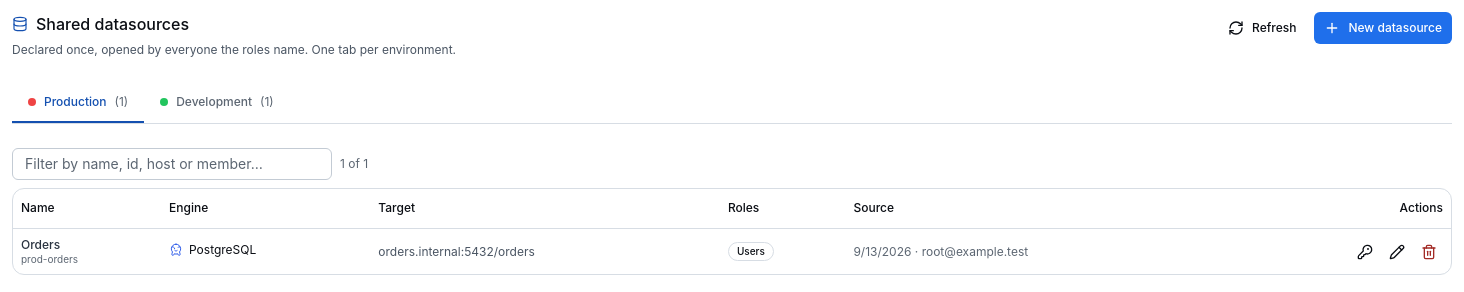
Test: DatasourcesTab › a tab whose environment empties on reload falls back to the first environment
Press the mouse on the tab with test id "env-tab-development" at (217, 103), box [144,84,290,122]
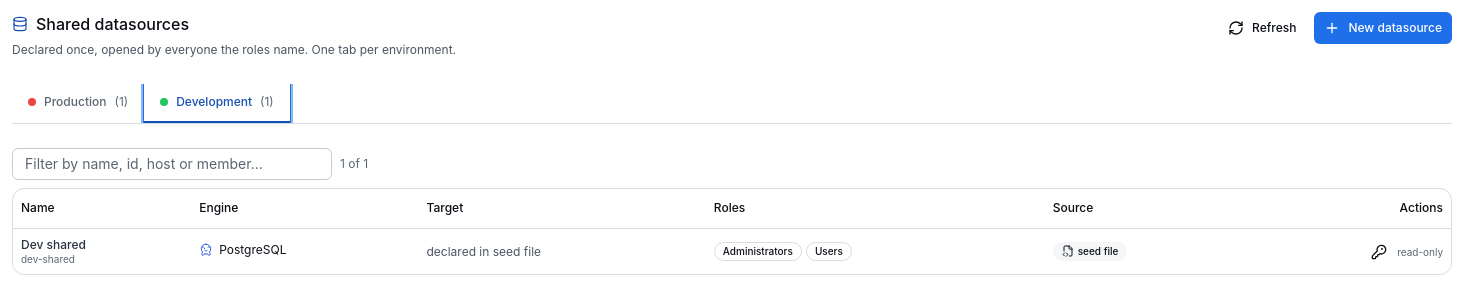
Now the element with test id "env-group-development" is shown, box [12,148,1452,275]
Click the button "Refresh" at (1262, 28), box [1218,12,1306,44]
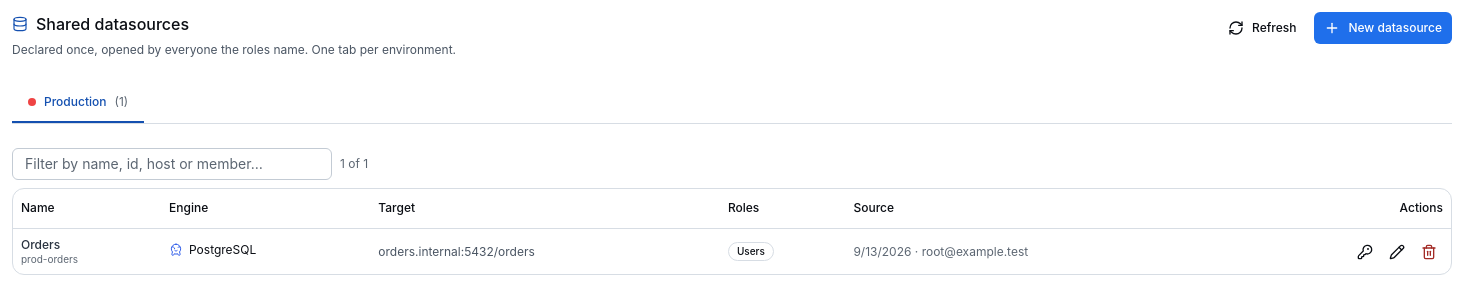
Now the tab with test id "env-tab-development" is gone
Now the element with test id "env-group-production" is shown, box [12,148,1452,275]
